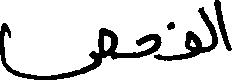X: (0, 18, 115, 79), (186, 3, 201, 63), (137, 29, 160, 64), (203, 0, 216, 57), (218, 0, 231, 55)
